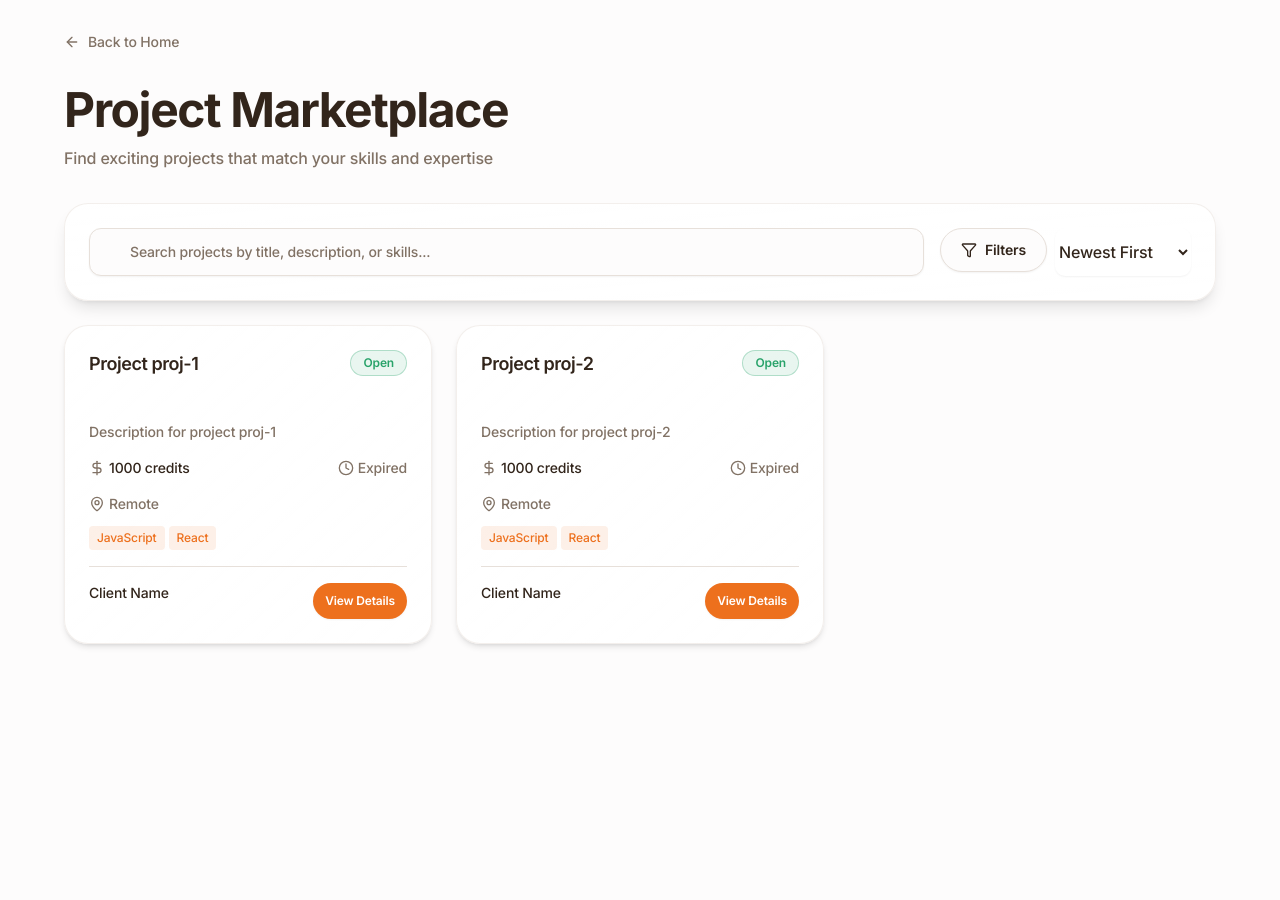
it: Marketplace Page - Integration Tests › Search & Filters › clear filters button resets all filters
expect the heading "Project proj-1" is shown: met, box [89,353,198,374]
Click the button with test id "toggle-filters-button" at [994, 250], box [940,228,1047,272]
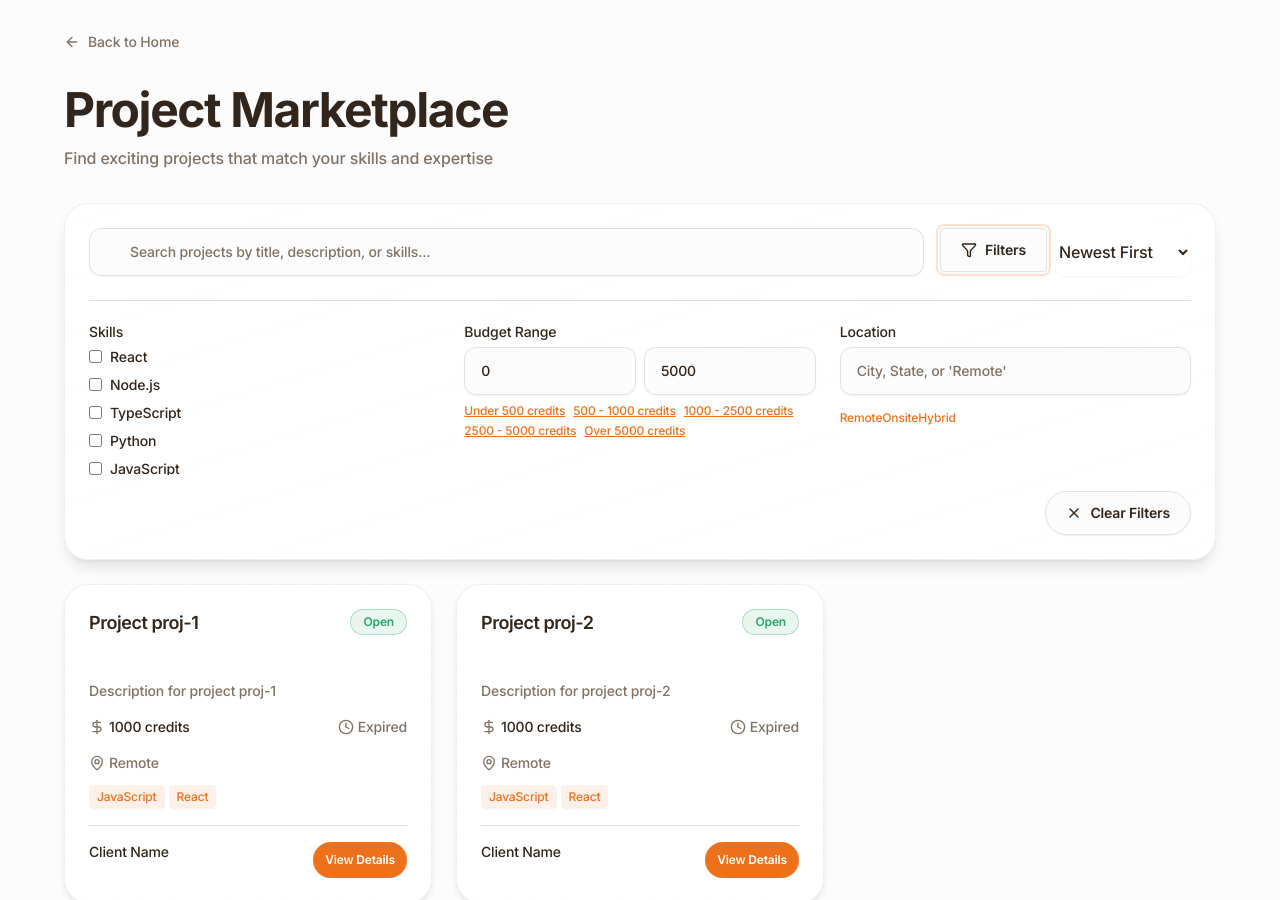
Type "test" into the field with placeholder "Search projects by title, description, or skills..." at [506, 252], box [89,228,924,276]
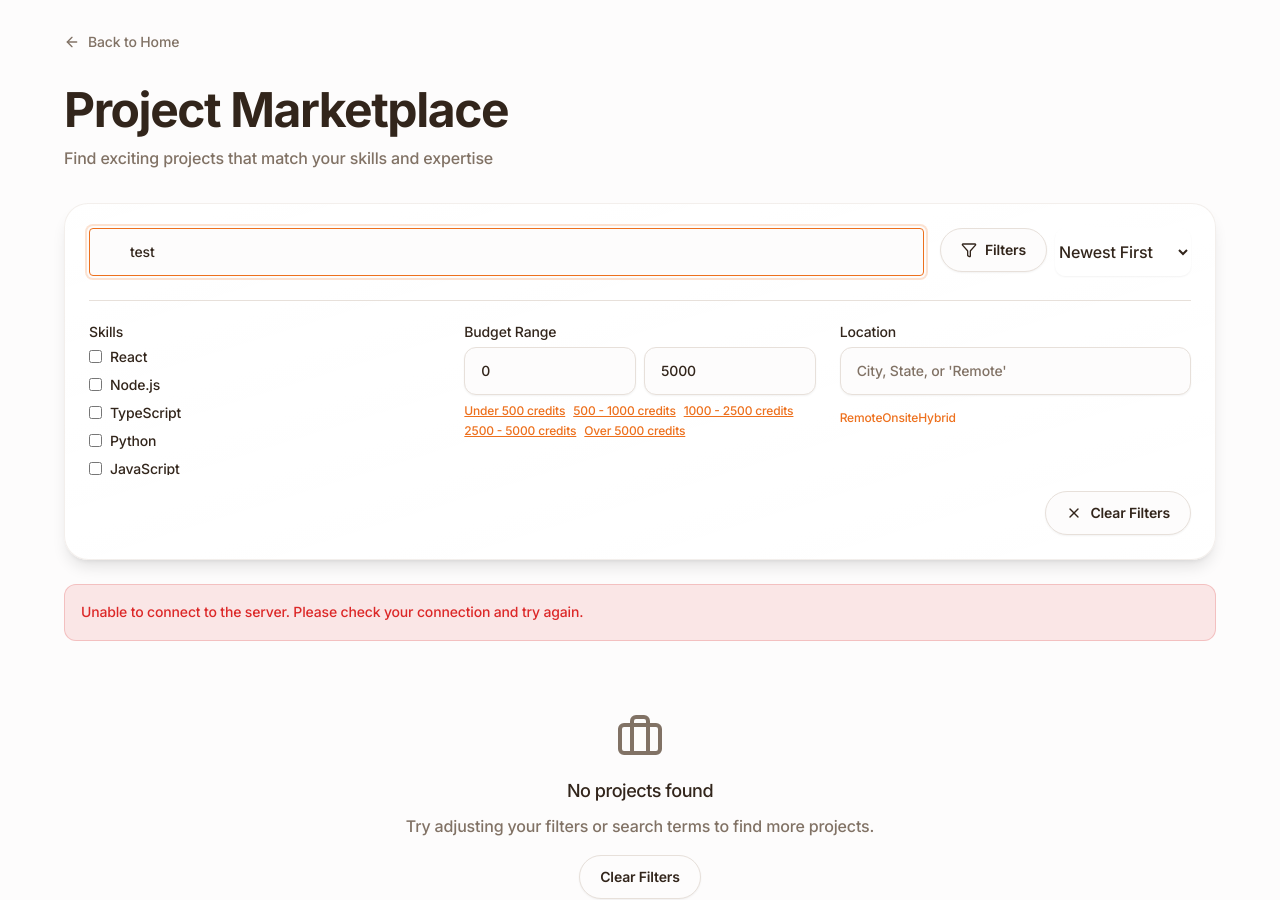
Click the button with test id "clear-filters-button" at [1118, 513], box [1046,491,1191,535]
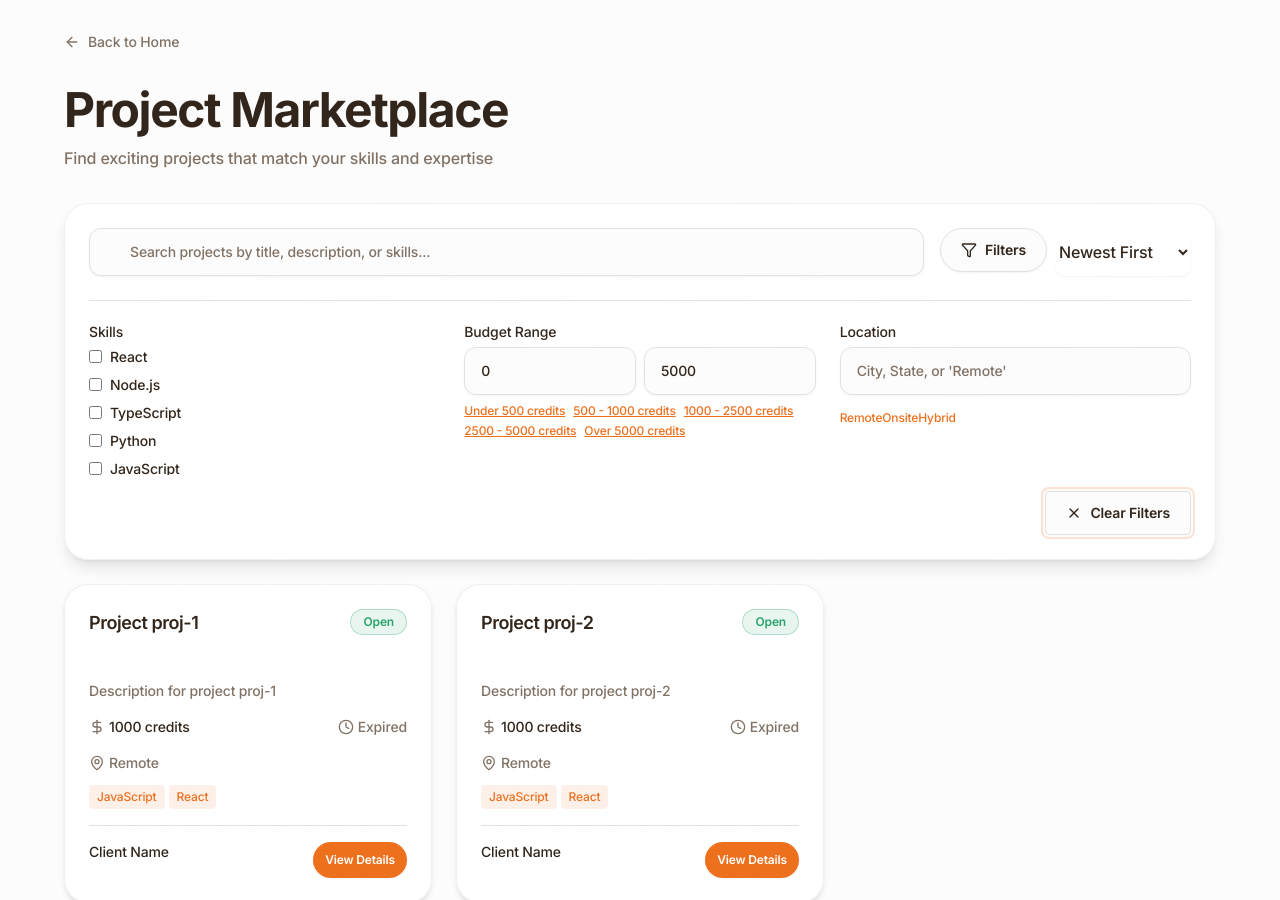
expect the field with placeholder "Search projects by title, description, or skills..." is empty: met, box [89,228,924,276]
